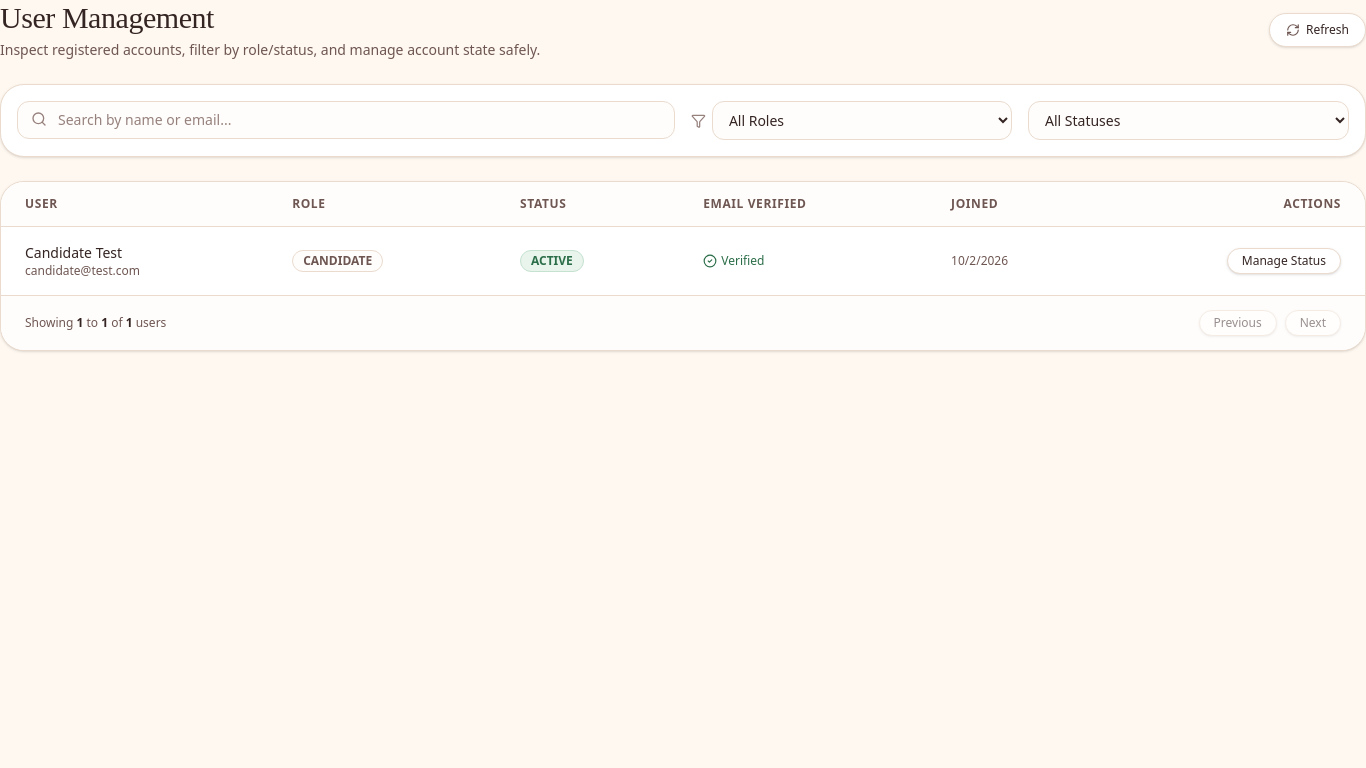
Scenario: Admin Portal Frontend › AdminUsersPage › fetches and renders user list and opens status change modal
Expected: the text "Candidate Test" is shown, [25,243,122,262]
Expected: the text "candidate@test.com" is shown, [25,262,140,279]
Click the button "Manage Status" at (1284,261), box [1227,248,1341,274]
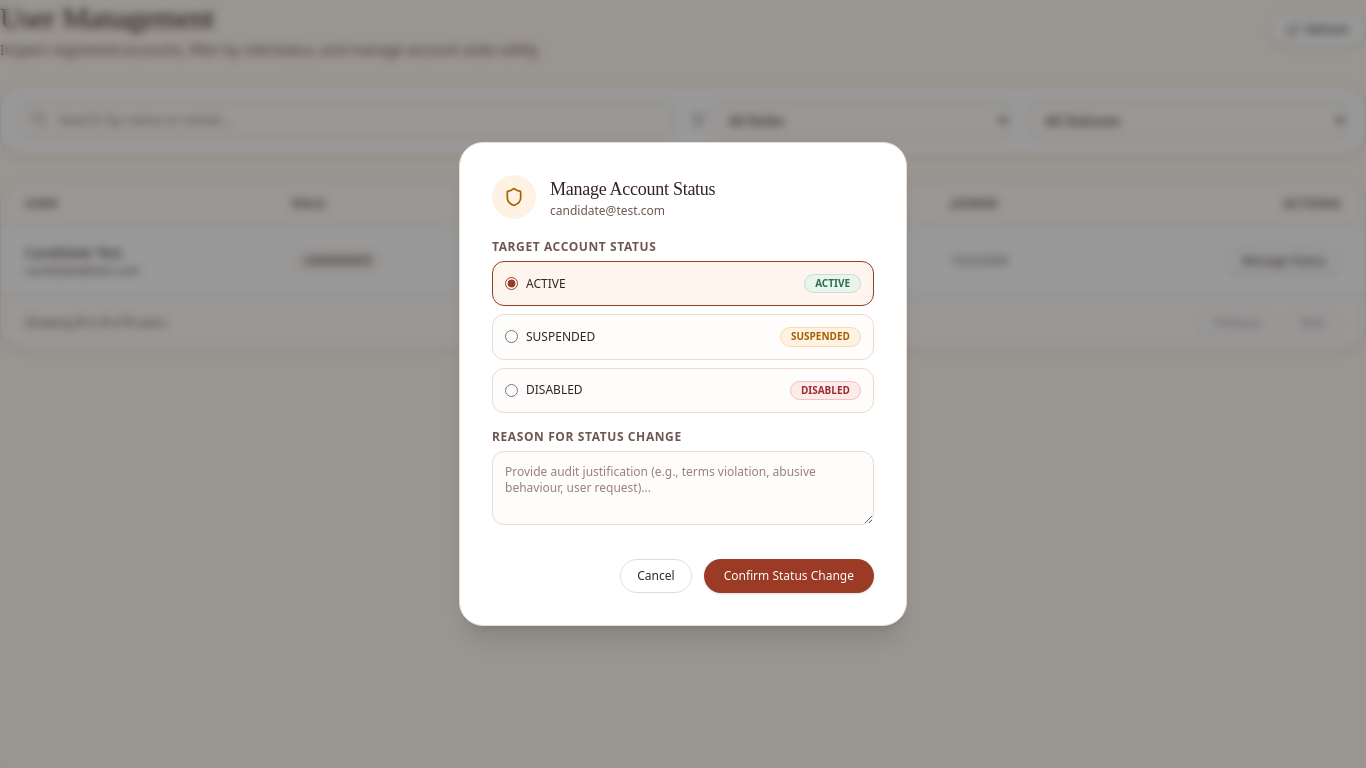
Now the heading "Manage Account Status" is shown, box [550,175,715,203]
Now the button "Confirm Status Change" is shown, box [704,559,874,593]
